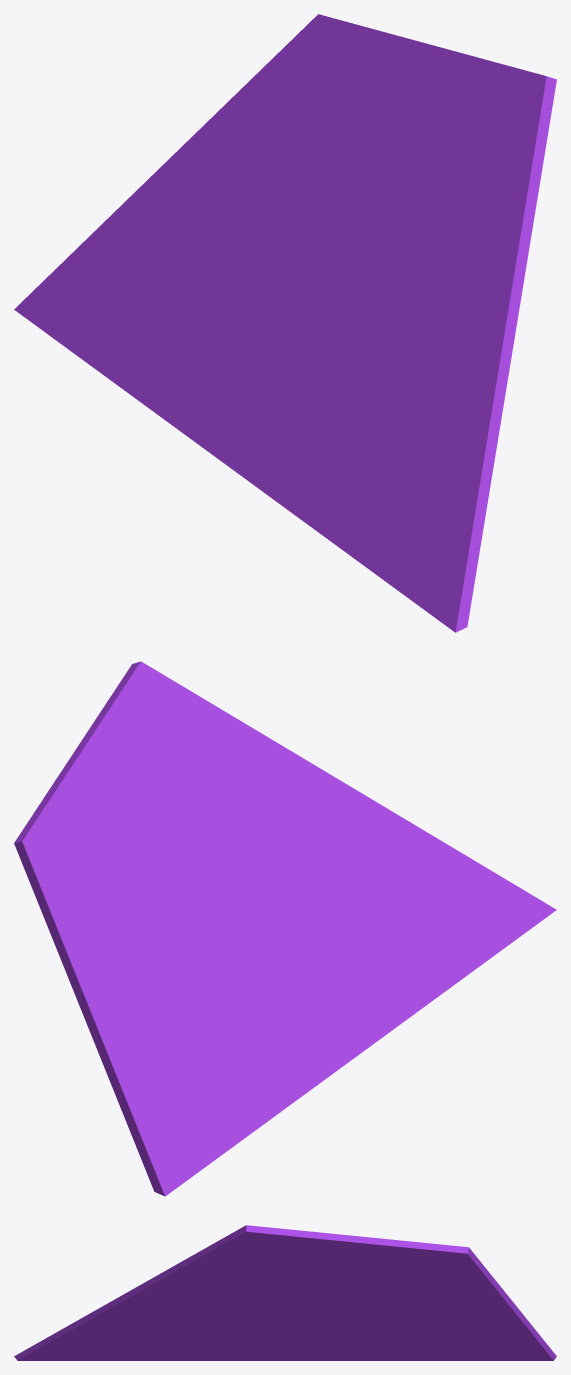
Rendered from Window_26_2_chunks.fbx.
The picture shows the model from 3 angles, top to bottom: view 1: azimuth 30°, elevation 25°; view 2: azimuth 150°, elevation 25°; view 3: azimuth 270°, elevation 25°; orthographic projection. The views are drawn at different scales.
Visible parts, largest first — view 1: Window_26_2_8, Window_26_2_2, Window_26_2_7, Window_26_2_4, Window_26_2_1, Window_26_2_13, Window_26_2_10, Window_26_2_5, Window_26_2_3, Window_26_2_17, Window_26_2_15, Window_26_2_14 (+4 smaller); view 2: Window_26_2_8, Window_26_2_2, Window_26_2_4, Window_26_2_1, Window_26_2_7, Window_26_2_10, Window_26_2_13, Window_26_2_5, Window_26_2_3, Window_26_2_17, Window_26_2_11, Window_26_2_15 (+4 smaller); view 3: Window_26_2_2, Window_26_2_8, Window_26_2_7, Window_26_2_4, Window_26_2_1, Window_26_2_5, Window_26_2_13, Window_26_2_11, Window_26_2_3, Window_26_2_10, Window_26_2_17, Window_26_2_14 (+4 smaller).
Boxes of the visible parts, x1=… form: Window_26_2_8: x1=228, y1=14, x2=415, y2=229; Window_26_2_2: x1=14, y1=230, x2=234, y2=412; Window_26_2_7: x1=393, y1=121, x2=548, y2=327; Window_26_2_4: x1=96, y1=101, x2=310, y2=280; Window_26_2_1: x1=155, y1=274, x2=319, y2=496; Window_26_2_13: x1=421, y1=320, x2=516, y2=575; Window_26_2_10: x1=360, y1=73, x2=556, y2=233; Window_26_2_5: x1=270, y1=246, x2=390, y2=502; Window_26_2_3: x1=251, y1=185, x2=359, y2=352; Window_26_2_17: x1=377, y1=484, x2=475, y2=632; Window_26_2_15: x1=278, y1=465, x2=403, y2=575; Window_26_2_14: x1=329, y1=322, x2=475, y2=433; Window_26_2_8: x1=14, y1=789, x2=205, y2=953; Window_26_2_2: x1=115, y1=995, x2=289, y2=1196; Window_26_2_4: x1=58, y1=900, x2=209, y2=1100; Window_26_2_1: x1=209, y1=944, x2=391, y2=1104; Window_26_2_7: x1=175, y1=682, x2=323, y2=851; Window_26_2_10: x1=129, y1=661, x2=210, y2=871; Window_26_2_13: x1=315, y1=771, x2=506, y2=879; Window_26_2_5: x1=219, y1=879, x2=398, y2=1030; Window_26_2_3: x1=156, y1=872, x2=292, y2=978; Window_26_2_17: x1=434, y1=876, x2=556, y2=960; Window_26_2_11: x1=38, y1=668, x2=137, y2=806; Window_26_2_15: x1=378, y1=915, x2=487, y2=1024; Window_26_2_2: x1=373, y1=1320, x2=556, y2=1360; Window_26_2_8: x1=335, y1=1242, x2=494, y2=1294; Window_26_2_7: x1=142, y1=1236, x2=298, y2=1305; Window_26_2_4: x1=386, y1=1280, x2=532, y2=1330; Window_26_2_1: x1=246, y1=1323, x2=378, y2=1360; Window_26_2_5: x1=220, y1=1287, x2=308, y2=1360; Window_26_2_13: x1=39, y1=1283, x2=168, y2=1348; Window_26_2_11: x1=252, y1=1226, x2=421, y2=1262; Window_26_2_3: x1=278, y1=1292, x2=386, y2=1329; Window_26_2_10: x1=226, y1=1225, x2=323, y2=1289; Window_26_2_17: x1=14, y1=1334, x2=131, y2=1360; Window_26_2_14: x1=165, y1=1295, x2=224, y2=1340.
Bounding box in the file's own units: 549 × 633 × 1446.
